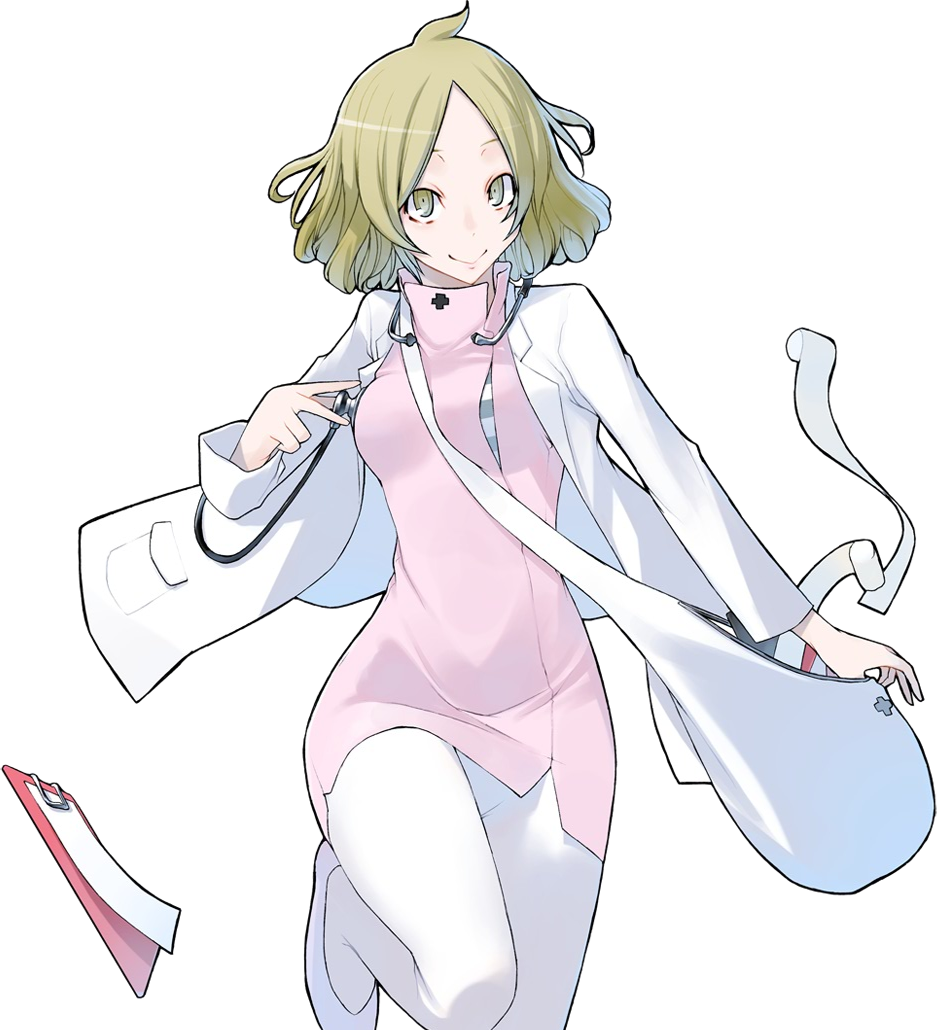anime face: (366, 146, 531, 279)
